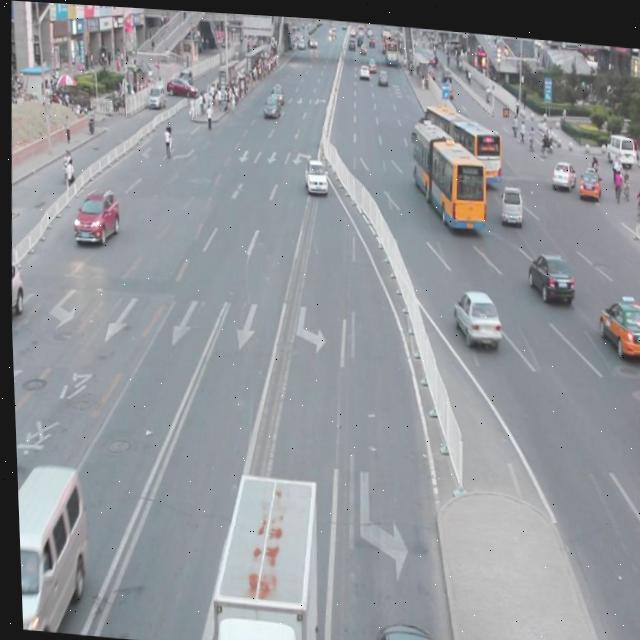bus: (200, 464, 319, 640)
car: (447, 280, 500, 338), (69, 184, 119, 244), (593, 288, 640, 351), (523, 243, 572, 298), (362, 612, 440, 640), (8, 260, 24, 315)
truck: (13, 458, 87, 634)
